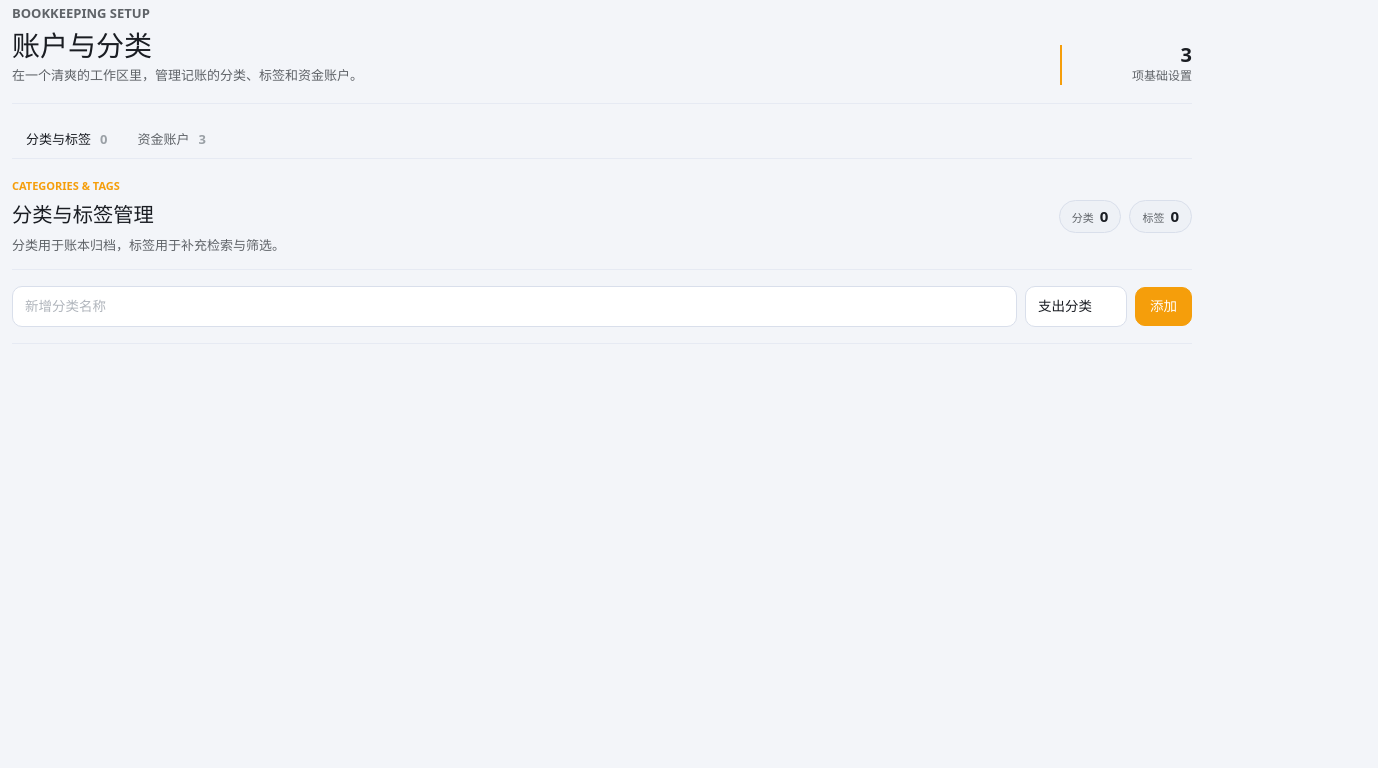
Test case: CategoriesAccountsPage › uses the top-right balance as the only balance edit entry
Click the button "资金账户 3".
click(172, 139)  # box [124, 120, 220, 158]
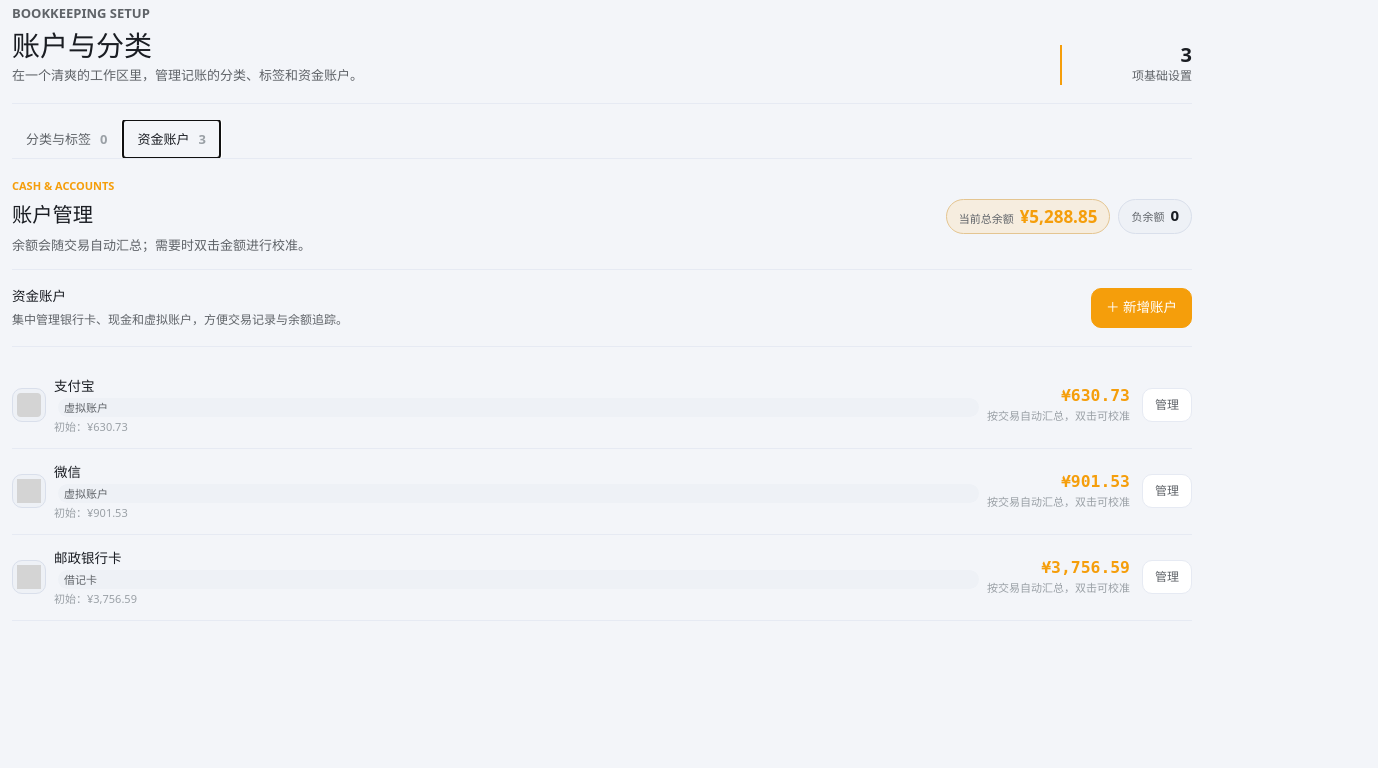
Check: the button named "account-balance-display-acc-alipay" is shown
Check: the number of buttons "¥630.73" is 1
Double-click the button named "account-balance-display-acc-alipay".
double_click(1096, 396)  # box [1061, 387, 1130, 405]
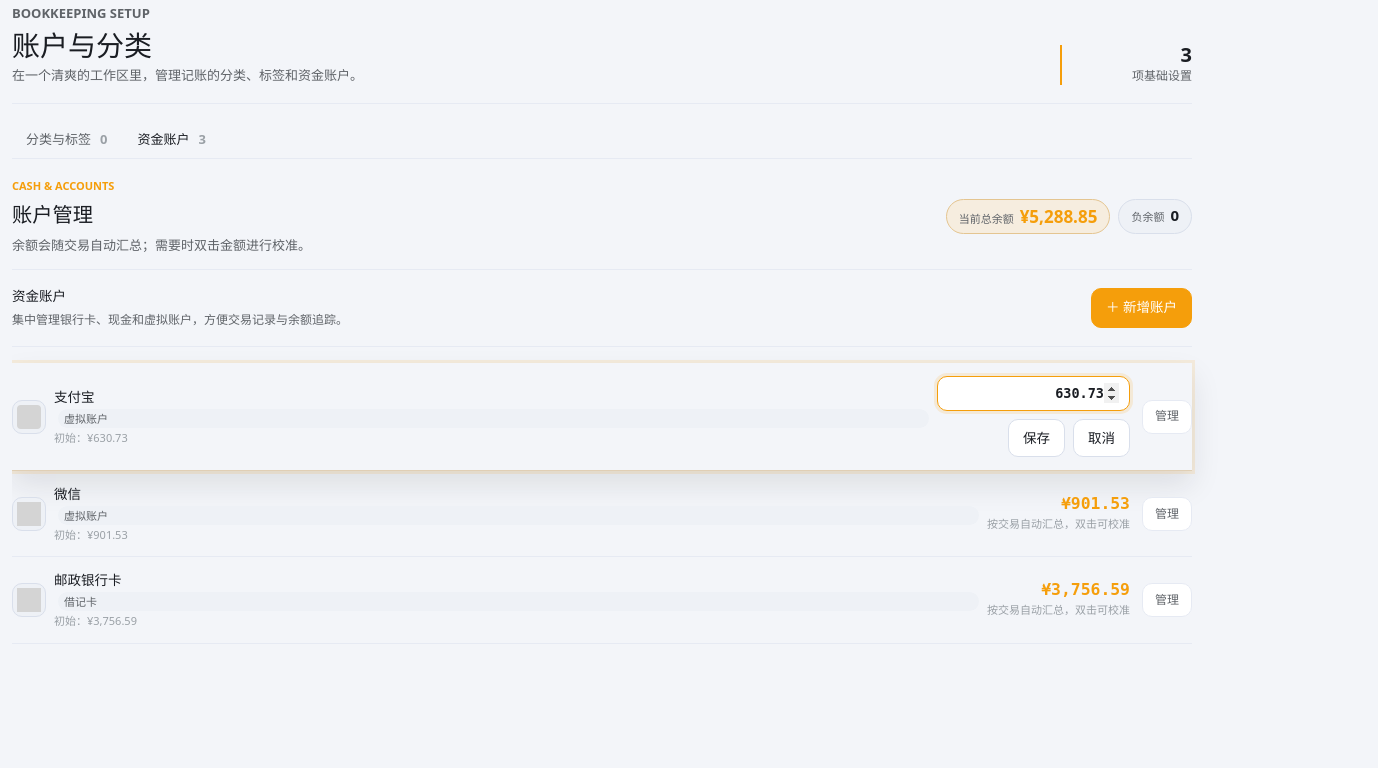
Check: the number field named "account-balance-editor-acc-alipay" holds "630.73", box [937, 376, 1130, 410]
Check: the button "保存" is shown, box [1008, 418, 1065, 457]
Check: the button "取消" is shown, box [1073, 418, 1130, 457]
